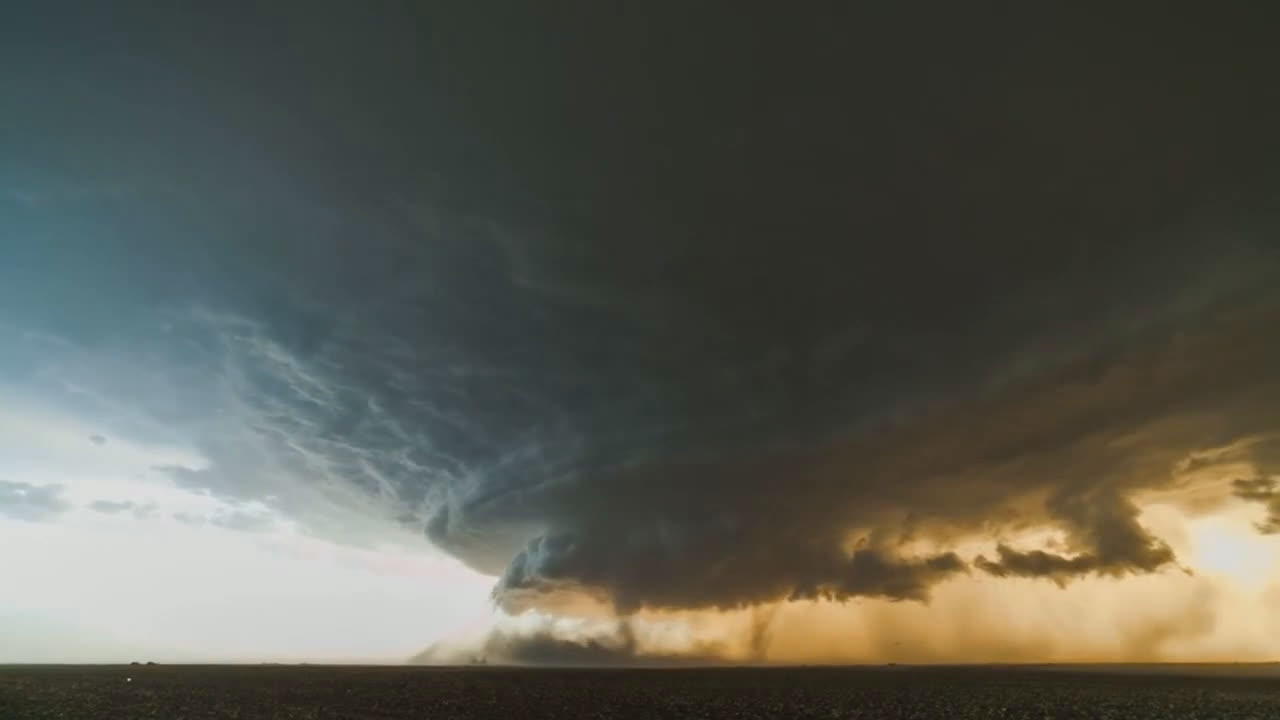FFD: (861, 489, 1279, 660)
RFD: (464, 607, 781, 666)
mesocyclone: (123, 3, 1280, 556)
striations: (421, 426, 843, 577)
wall cloud: (489, 483, 1195, 619)
